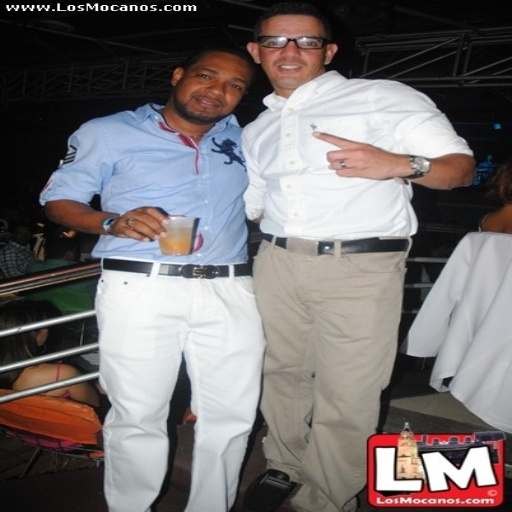hand: (312, 126, 443, 179), (110, 205, 183, 241)
